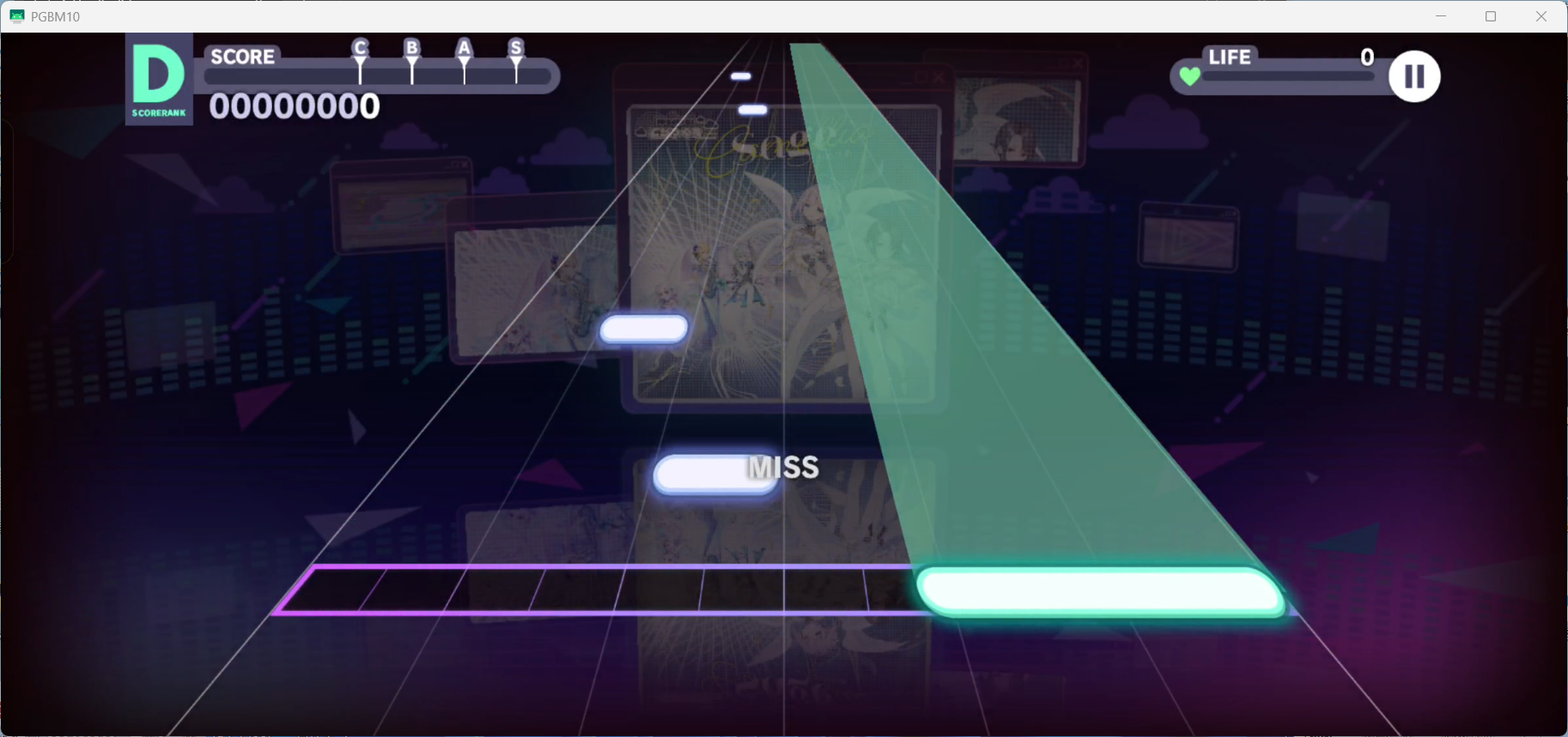hold: (789, 43, 1260, 568)
tap: (915, 566, 1288, 620), (653, 454, 781, 496), (599, 314, 689, 345), (738, 104, 768, 115), (730, 72, 751, 80)
